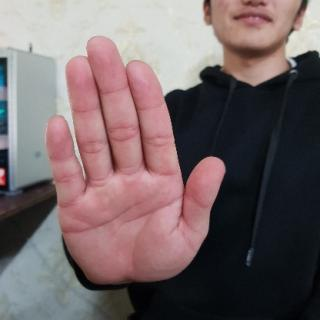SEEN: (41, 32, 229, 291)
